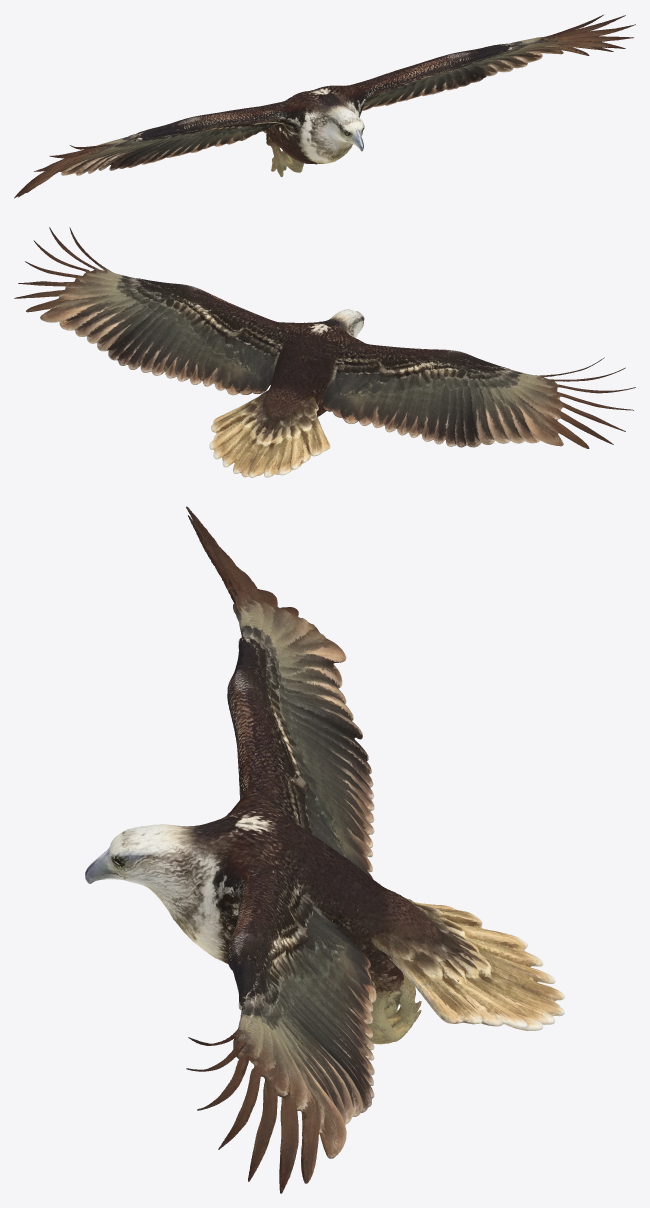
The model's file is hawk.glb.
The picture shows the model from 3 angles, top to bottom: view 1: azimuth 30°, elevation 25°; view 2: azimuth 150°, elevation 25°; view 3: azimuth 270°, elevation 25°; orthographic projection. The views are drawn at different scales.
Parts seen in each view (by area): view 1: mesh_0; view 2: mesh_0; view 3: mesh_0.
Part boxes in pixels (x1,y1,x2,y2): mesh_0: (14,14,635,198); mesh_0: (14,227,635,477); mesh_0: (85,506,564,1193).
Bounding box in the file's own units: 1.89 × 0.3862 × 0.6436.
1 material, 1 textured.
